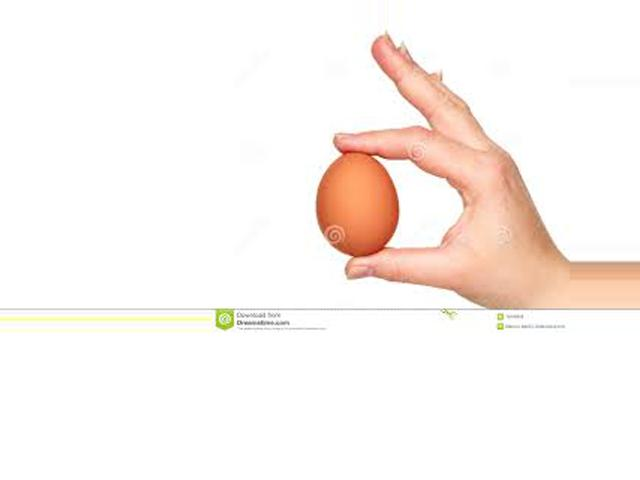egg: (315, 151, 400, 258)
